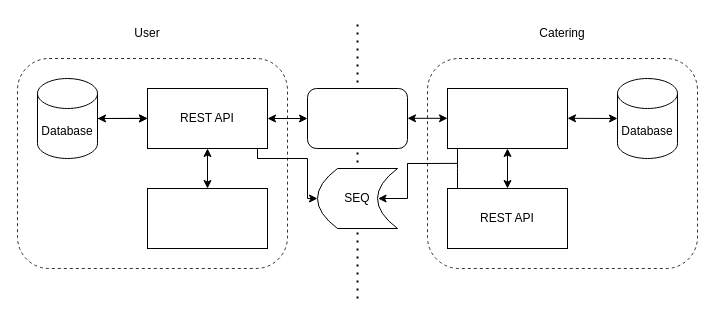
The diagram is 715 pixels wide and 317 high, and some of its shapes have lost their labels. The shapes that lost their labels are listed below. From the top down, each one's centre as x and y in pixels, then its label:
At pixel 357 118: "Message Broker".
At pixel 507 118: "Catering Data Processing".
At pixel 207 218: "BLAZOR Frontend".
